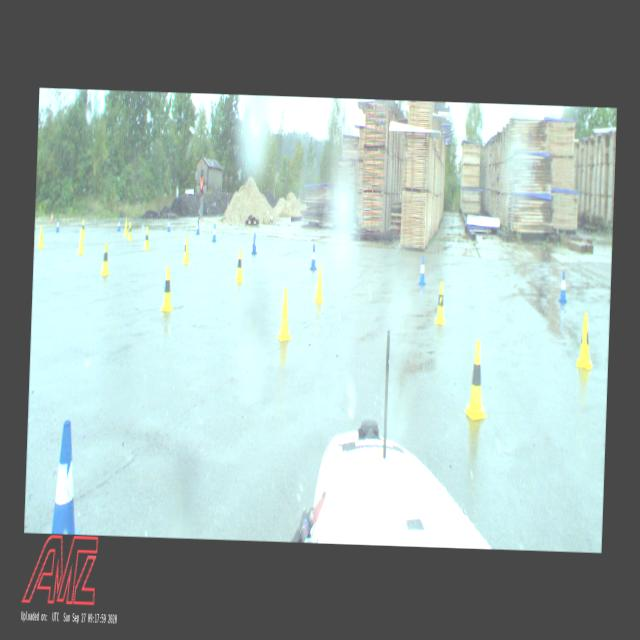blue_cone: (51, 421, 84, 534), (558, 270, 568, 302), (418, 256, 427, 286), (310, 243, 317, 270), (251, 232, 257, 254), (212, 222, 216, 242), (167, 216, 171, 232), (196, 218, 200, 234), (56, 219, 60, 232), (117, 218, 120, 231)
orange_cone: (50, 212, 53, 220)
yellow_cone: (463, 339, 489, 420), (575, 312, 593, 368), (276, 288, 292, 340), (160, 265, 173, 310), (434, 280, 446, 322), (313, 265, 325, 302), (100, 242, 111, 275), (234, 247, 244, 281), (182, 236, 190, 263), (77, 228, 84, 254), (37, 224, 44, 248), (143, 226, 150, 249), (80, 219, 86, 236), (127, 222, 132, 240), (123, 219, 128, 235), (34, 222, 36, 236)
